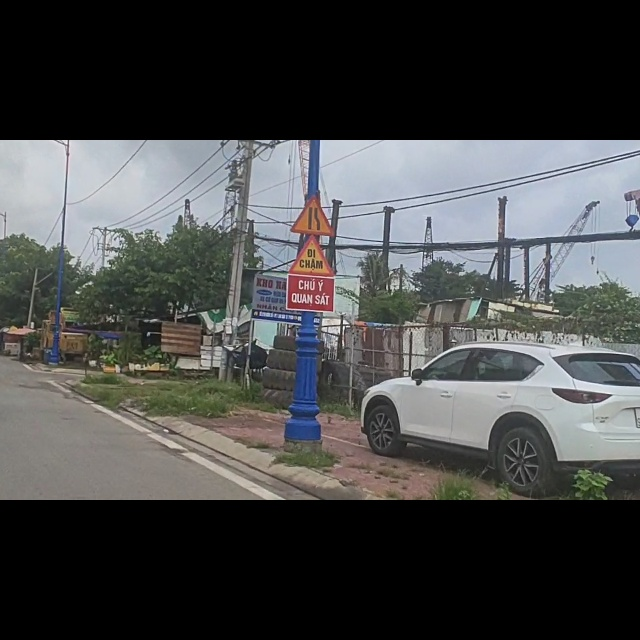bien_nguy_hiem: (288, 169, 335, 242), (291, 96, 335, 168)
